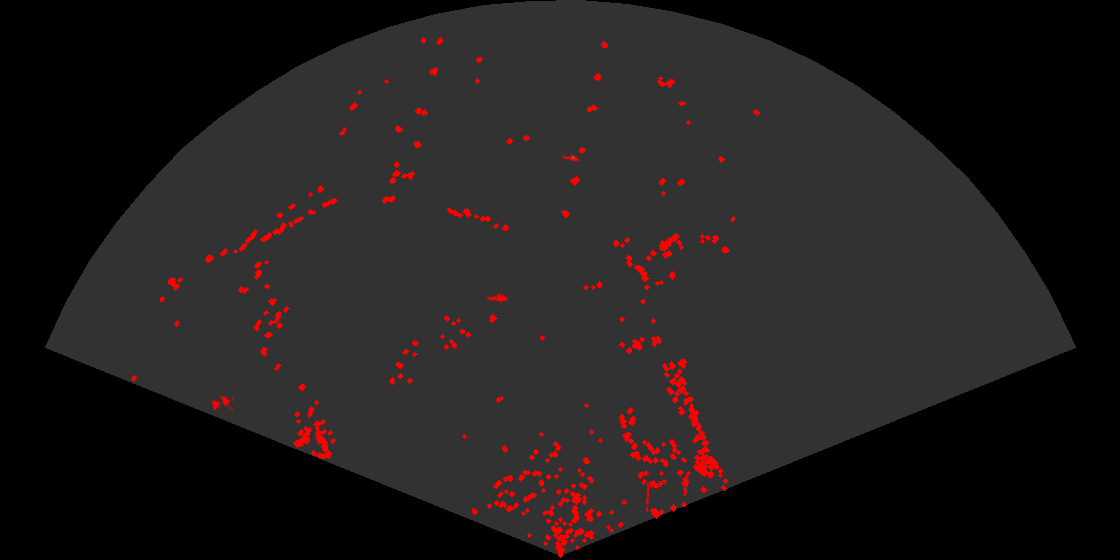cage: (210, 393, 234, 417)
chain: (644, 482, 651, 512)
frogman: (485, 291, 508, 304), (679, 473, 691, 497), (561, 153, 580, 165)
